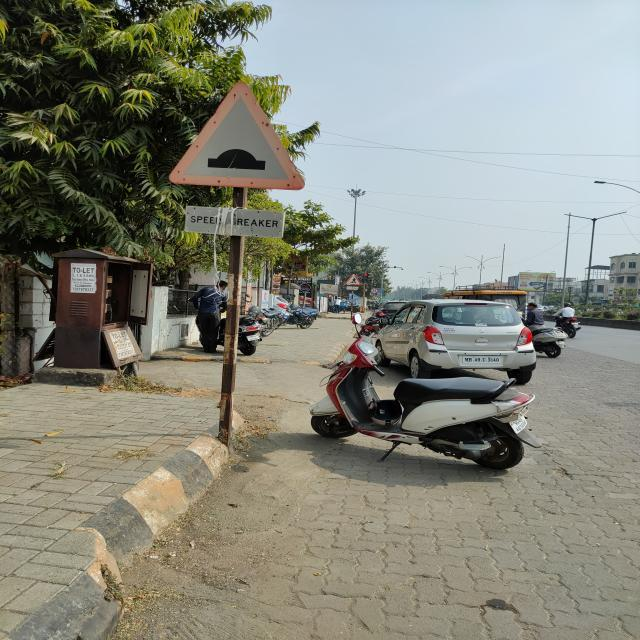hump or rough road: (166, 77, 307, 191)
